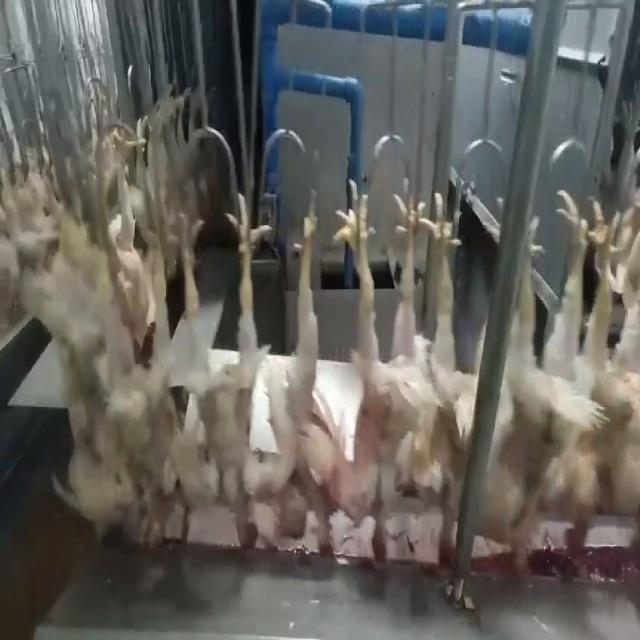chicken: (471, 179, 594, 568), (222, 181, 335, 556), (327, 176, 428, 564), (398, 170, 487, 576), (121, 194, 218, 551), (573, 186, 639, 564)
